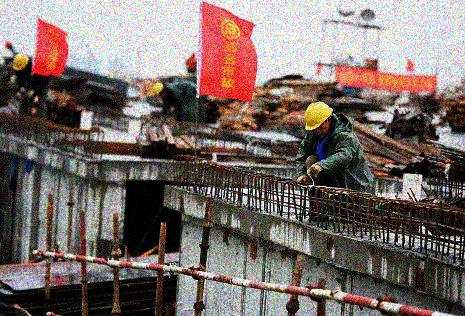helmet: (303, 100, 335, 140), (11, 53, 30, 74), (151, 82, 166, 99)
